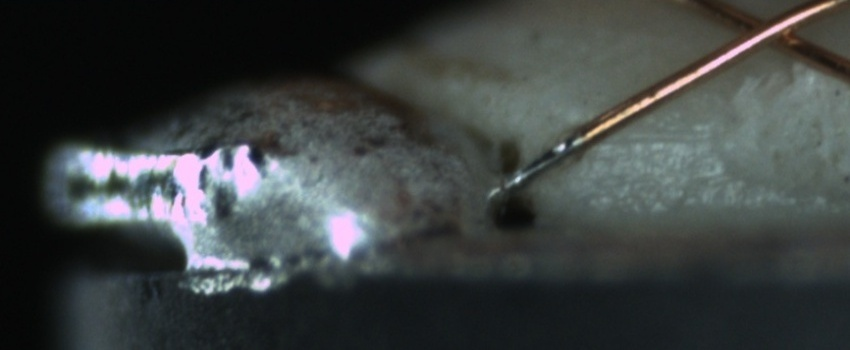CL: (714, 1, 823, 60)
DL: (600, 110, 719, 169)
TS: (502, 132, 582, 194)
TTCW: (499, 114, 609, 200)
